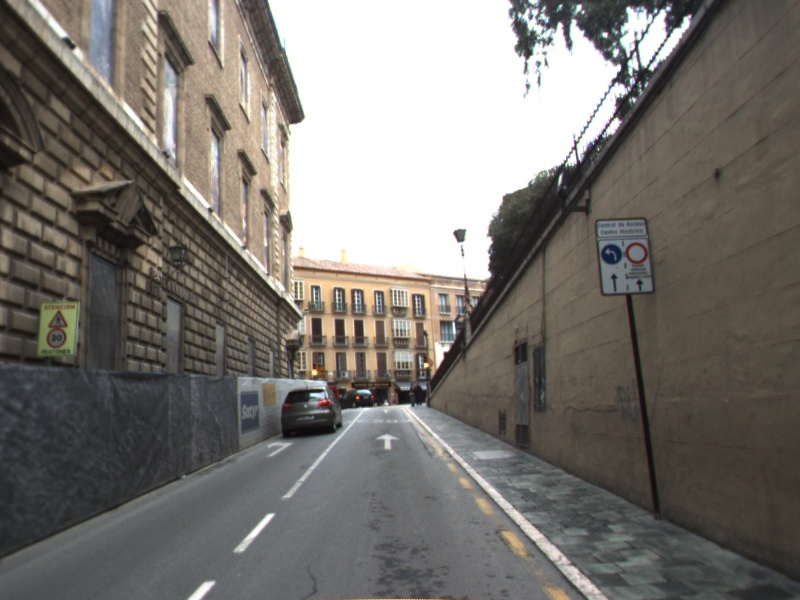LEFT: (263, 439, 296, 459)
STRAIGHT: (373, 431, 403, 451)
